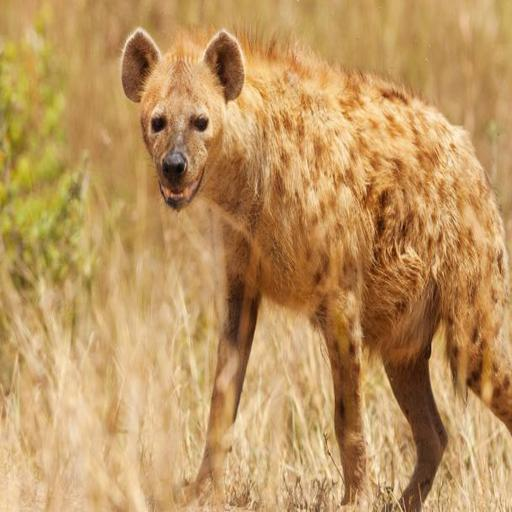Hyena: (120, 25, 512, 512)
